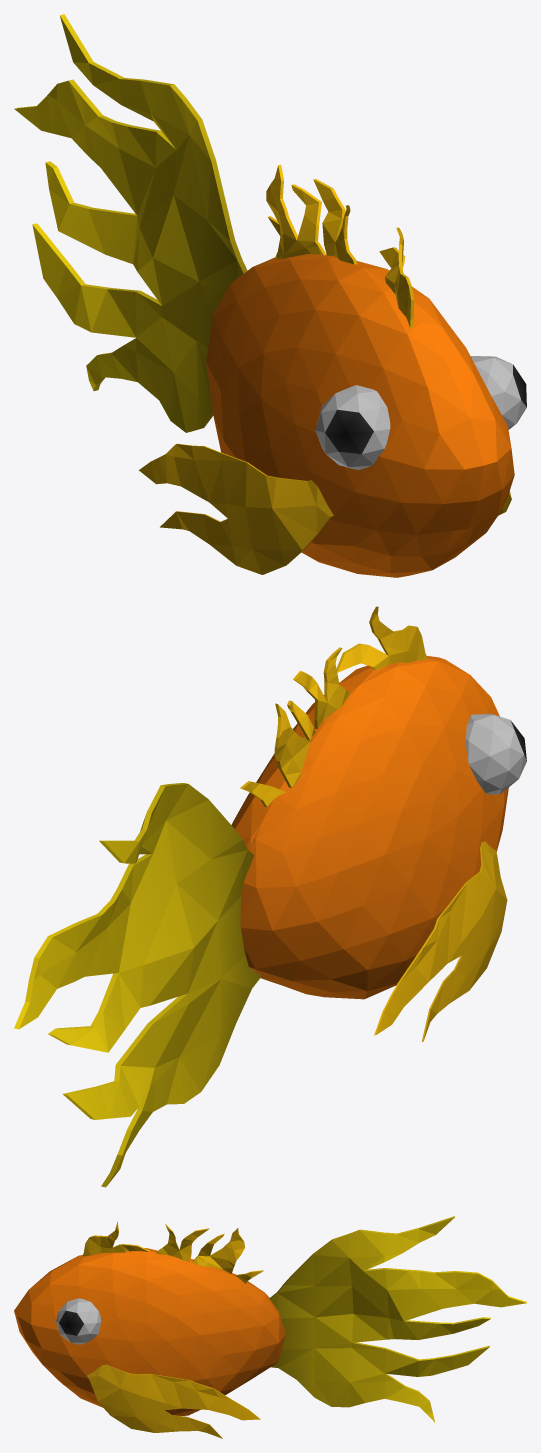
File: sunfish.glb
The picture shows the model from 3 angles, top to bottom: view 1: azimuth 30°, elevation 25°; view 2: azimuth 150°, elevation 25°; view 3: azimuth 270°, elevation 25°; orthographic projection. The views are drawn at different scales.
Visible parts, largest first — view 1: Icosphere.003, Plane.079, Plane.078, eye.shaded.050, Plane.080, eye.shaded.049, Plane.081; view 2: Icosphere.003, Plane.079, Plane.078, Plane.080, eye.shaded.050, Plane.081; view 3: Icosphere.003, Plane.079, Plane.078, Plane.080, eye.shaded.049, Plane.081.
Part boxes in pixels (x1,y1,x2,y2): Icosphere.003: [206, 254, 514, 577]; Plane.079: [14, 14, 247, 432]; Plane.078: [139, 443, 511, 574]; eye.shaded.050: [315, 385, 390, 470]; Plane.080: [266, 164, 357, 264]; eye.shaded.049: [471, 356, 526, 429]; Plane.081: [379, 227, 414, 328]; Icosphere.003: [231, 656, 508, 999]; Plane.079: [14, 783, 262, 1187]; Plane.078: [374, 841, 507, 1041]; Plane.080: [240, 647, 349, 806]; eye.shaded.050: [465, 713, 526, 794]; Plane.081: [336, 606, 428, 672]; Icosphere.003: [14, 1248, 285, 1415]; Plane.079: [269, 1216, 526, 1422]; Plane.078: [87, 1364, 260, 1438]; Plane.080: [156, 1224, 263, 1283]; eye.shaded.049: [56, 1298, 101, 1344]; Plane.081: [82, 1221, 149, 1256].
Size of the model in its own units: 1.06 by 1.41 by 3.2.
Materials: 4 (4 with a texture image).
